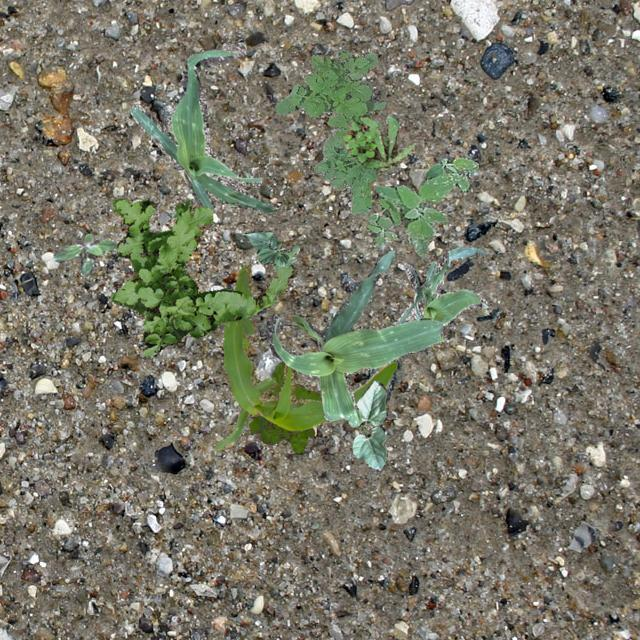crop: (212, 262, 396, 449), (264, 248, 443, 424), (130, 42, 276, 212), (394, 246, 486, 340), (344, 379, 388, 472), (242, 230, 298, 268)
weed: (110, 198, 296, 354), (273, 49, 387, 212), (366, 157, 478, 256), (248, 361, 320, 452), (342, 112, 414, 168), (52, 232, 116, 274)
